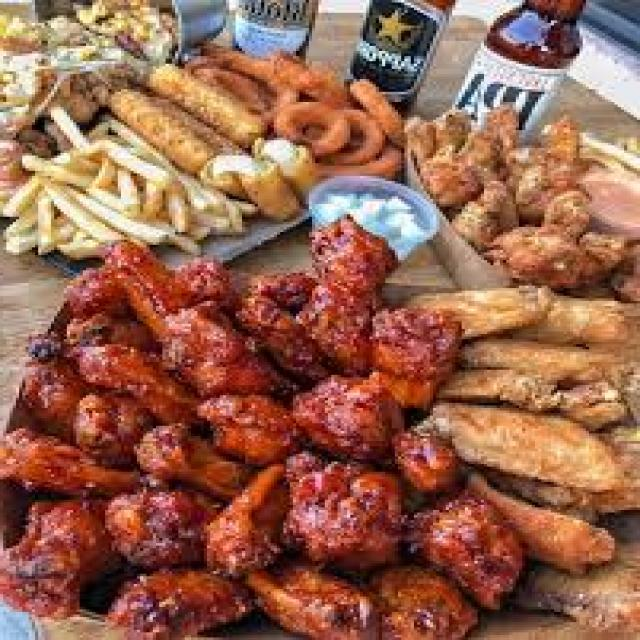Chicken Wings: (0, 237, 640, 640)
French Fries: (3, 122, 242, 258)
Onion Rings: (204, 49, 426, 163)
